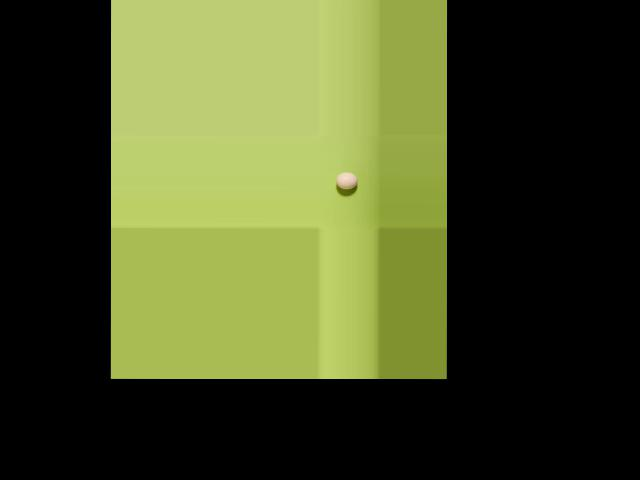egg: (336, 173, 358, 189)
